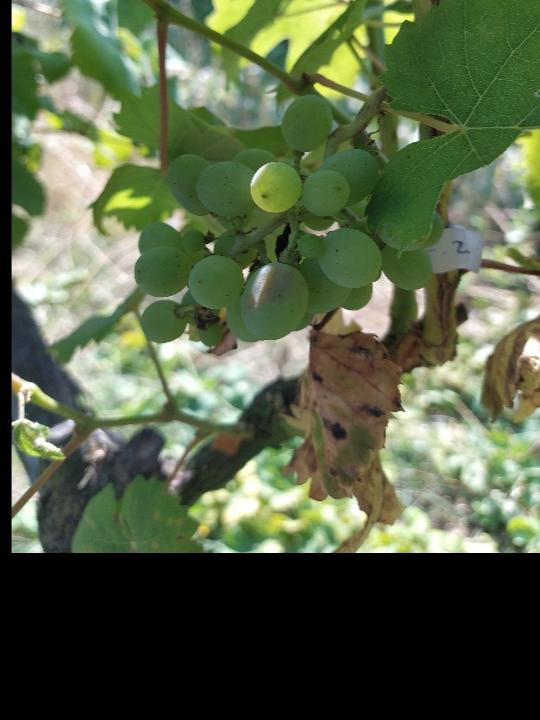grape: (132, 91, 444, 350)
